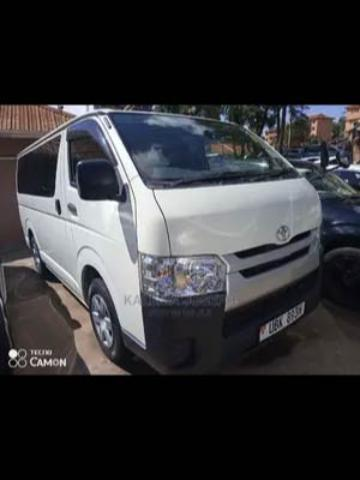van: (15, 108, 321, 372)
